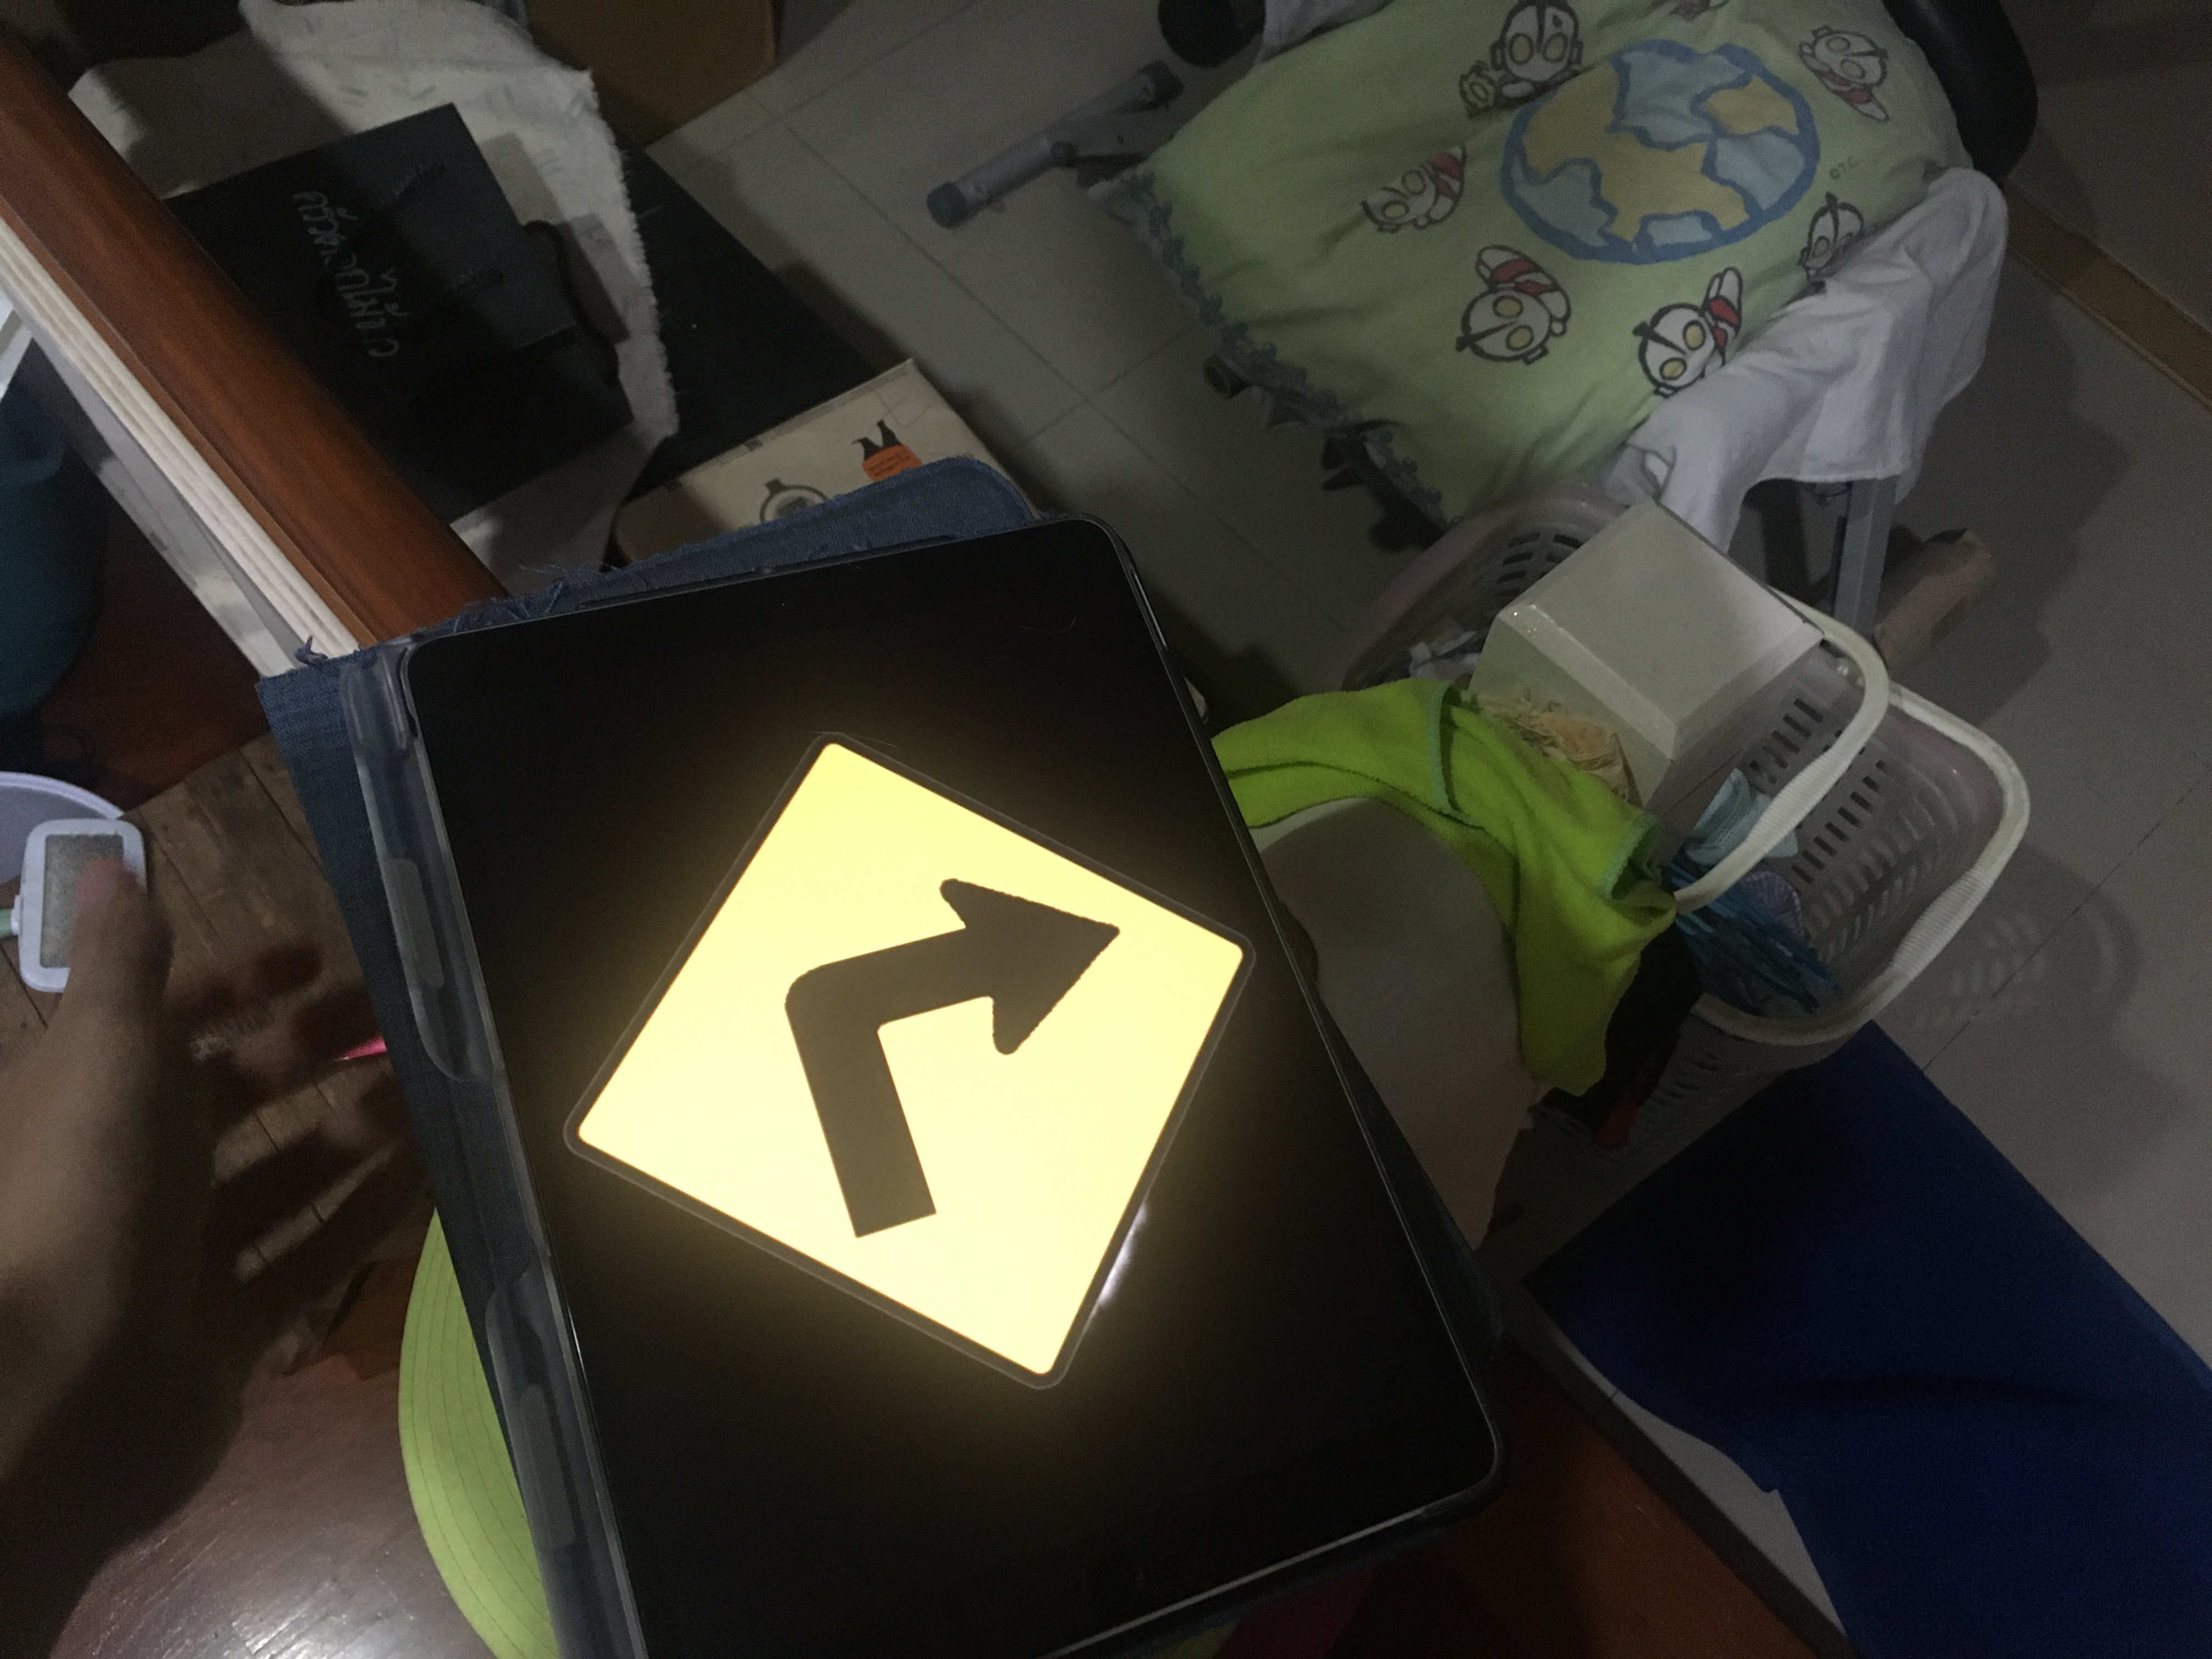right: (556, 711, 1271, 1393)
